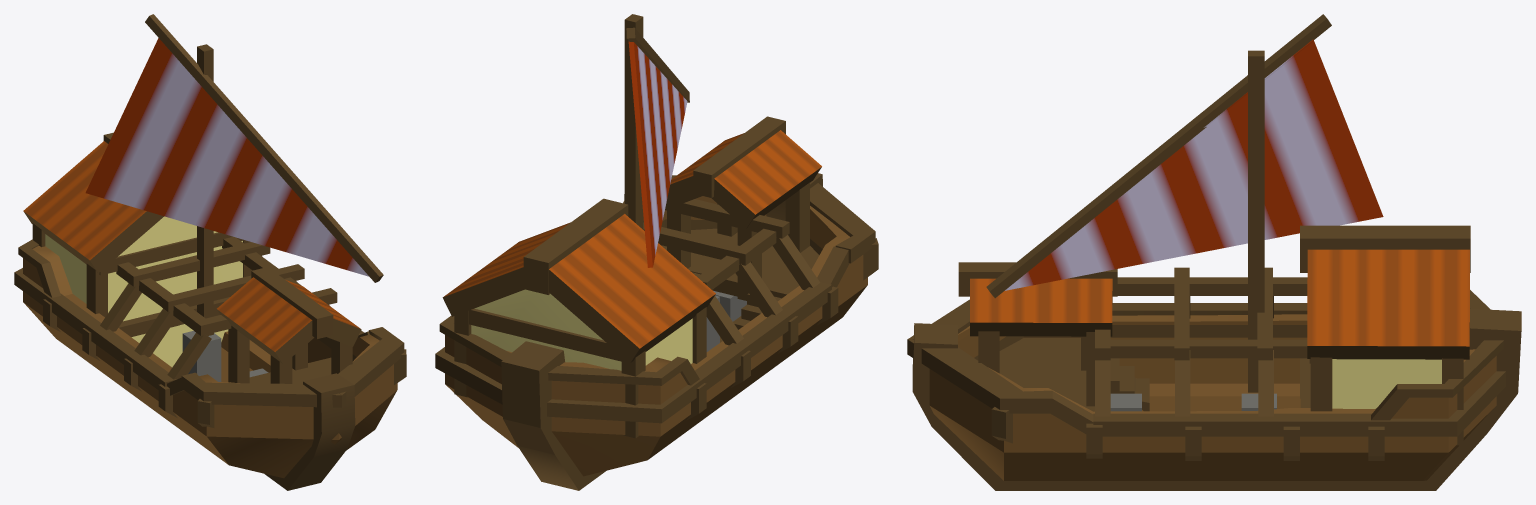
File: seedship.fbx
The picture shows the model from 3 angles, left to right: view 1: azimuth 30°, elevation 25°; view 2: azimuth 150°, elevation 25°; view 3: azimuth 270°, elevation 25°; orthographic projection. The views are drawn at different scales.
Visible parts, largest first — view 1: polySurface349; view 2: polySurface349; view 3: polySurface349.
Part boxes in pixels (bbox=[...]): polySurface349: bbox=[14, 14, 406, 490]; polySurface349: bbox=[435, 14, 878, 490]; polySurface349: bbox=[907, 14, 1521, 490].
Size of the model in its own units: 113 by 193 by 235.
1 material, 1 textured.
